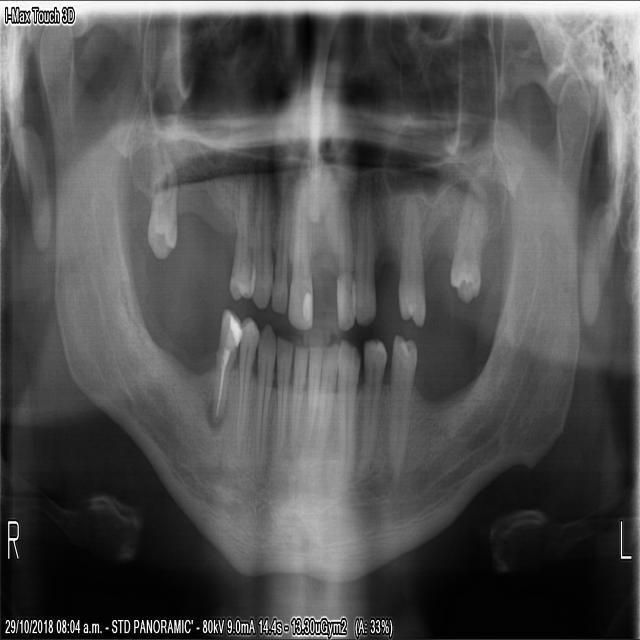LCD: (335, 337, 361, 469)
LCU: (348, 204, 375, 329)
LID: (315, 333, 337, 455), (304, 332, 322, 442)
LIU: (334, 202, 353, 327)
LMU: (446, 188, 489, 307)
LPMD: (384, 333, 417, 484), (354, 340, 387, 465)
LPMU: (395, 202, 424, 326)
RCD: (253, 319, 276, 470)
RCU: (248, 184, 273, 310)
RID: (272, 327, 292, 464), (284, 337, 306, 443)
RIU: (286, 183, 313, 337), (268, 189, 291, 316)
RMU: (146, 186, 175, 260)
RPMD: (210, 299, 241, 431), (231, 314, 260, 445)
RPMU: (226, 181, 255, 306)
